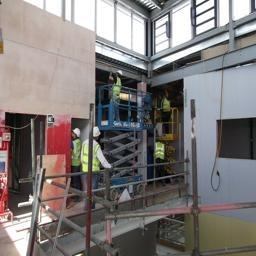hat: (89, 124, 106, 142), (70, 125, 85, 143), (112, 66, 128, 82), (162, 90, 176, 105), (155, 135, 170, 146)
vest: (84, 137, 99, 180), (70, 138, 86, 178), (160, 100, 176, 127), (110, 80, 128, 103), (156, 141, 167, 169)
